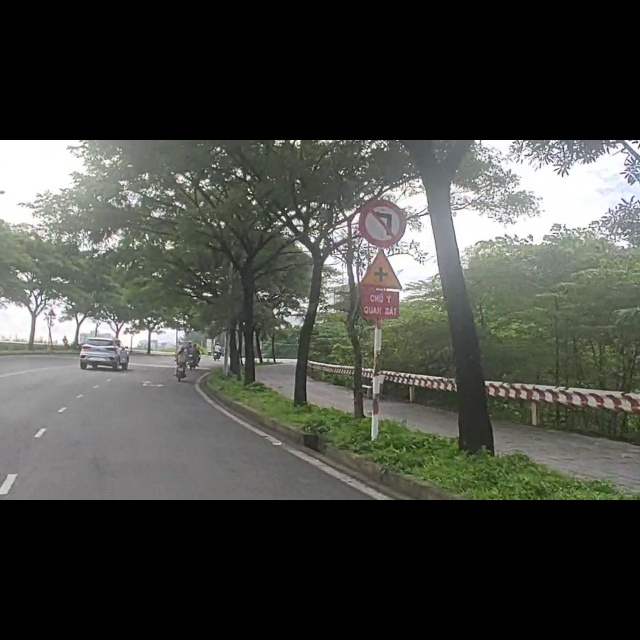bien_cam: (359, 103, 411, 193), (358, 196, 405, 267)
